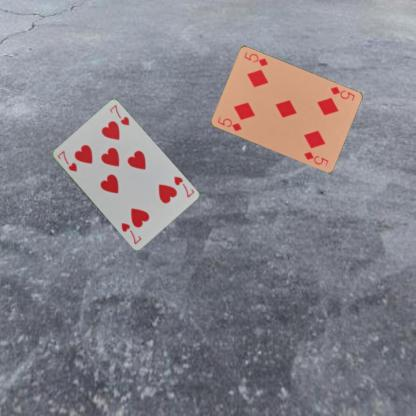5d: (214, 114, 243, 132), (328, 84, 356, 102)
7h: (171, 173, 195, 199), (54, 148, 78, 173)
